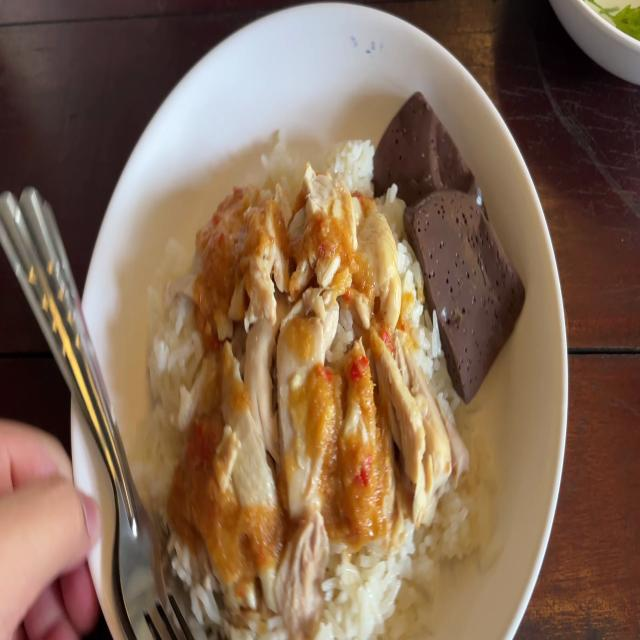boiled_chicken: (203, 212, 419, 521)
boiled_chicken_blood_jelly: (421, 193, 522, 383), (381, 93, 474, 236)
chicken_rice: (138, 92, 528, 631)
